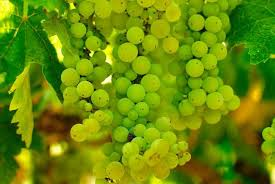grapes: (123, 21, 189, 177), (63, 9, 117, 140), (187, 8, 235, 121)
